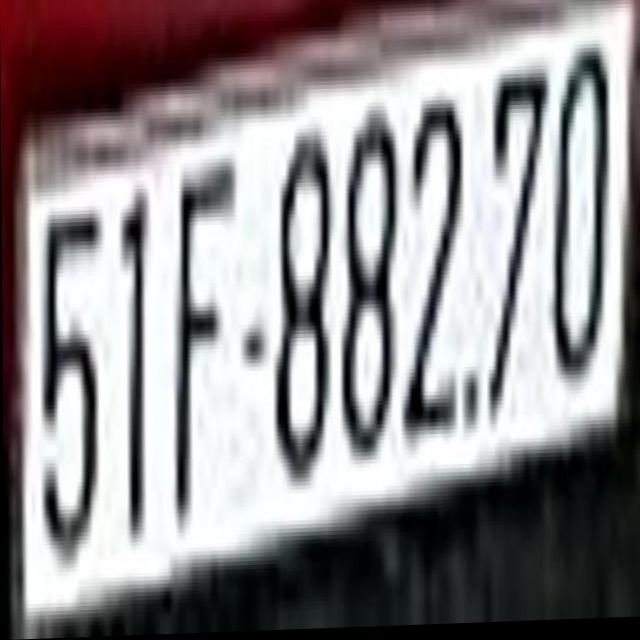0: (552, 52, 613, 410)
1: (115, 193, 153, 551)
2: (400, 92, 464, 442)
5: (42, 195, 100, 550)
7: (483, 69, 549, 436)
8: (268, 110, 333, 508), (341, 101, 396, 475)
F: (172, 144, 237, 519)
